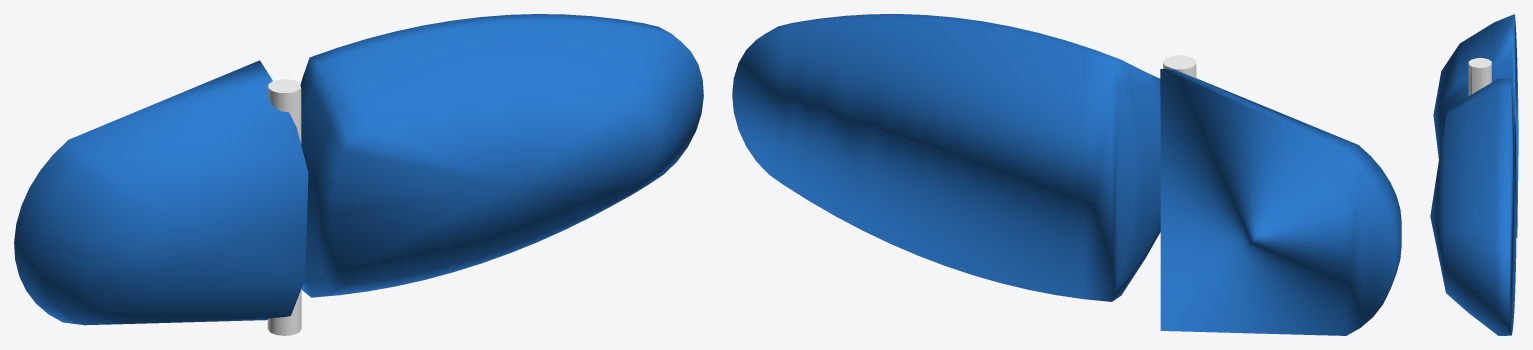
The model's file is foot_left.obj.
3 views of the same model, side by side, from view 1: azimuth 30°, elevation 25°; view 2: azimuth 150°, elevation 25°; view 3: azimuth 270°, elevation 25° (orthographic). The views are drawn at different scales.
Parts seen in each view (by area): view 1: Mesh1 Component_3_1 pe1 Model, Mesh2 Component_2_1 pe1 Model, Mesh3 Model; view 2: Mesh1 Component_3_1 pe1 Model, Mesh2 Component_2_1 pe1 Model, Mesh3 Model; view 3: Mesh1 Component_3_1 pe1 Model, Mesh2 Component_2_1 pe1 Model, Mesh3 Model.
Boxes of the visible parts, x1=… form: Mesh1 Component_3_1 pe1 Model: x1=300, y1=14, x2=703, y2=297; Mesh2 Component_2_1 pe1 Model: x1=14, y1=60, x2=308, y2=325; Mesh3 Model: x1=267, y1=79, x2=301, y2=335; Mesh1 Component_3_1 pe1 Model: x1=732, y1=14, x2=1160, y2=301; Mesh2 Component_2_1 pe1 Model: x1=1160, y1=69, x2=1401, y2=335; Mesh3 Model: x1=1163, y1=55, x2=1196, y2=78; Mesh1 Component_3_1 pe1 Model: x1=1430, y1=78, x2=1516, y2=335; Mesh2 Component_2_1 pe1 Model: x1=1433, y1=14, x2=1518, y2=237; Mesh3 Model: x1=1468, y1=58, x2=1491, y2=95.
Bounding box in the file's own units: 0.1431 × 0.0527 × 0.0229.
